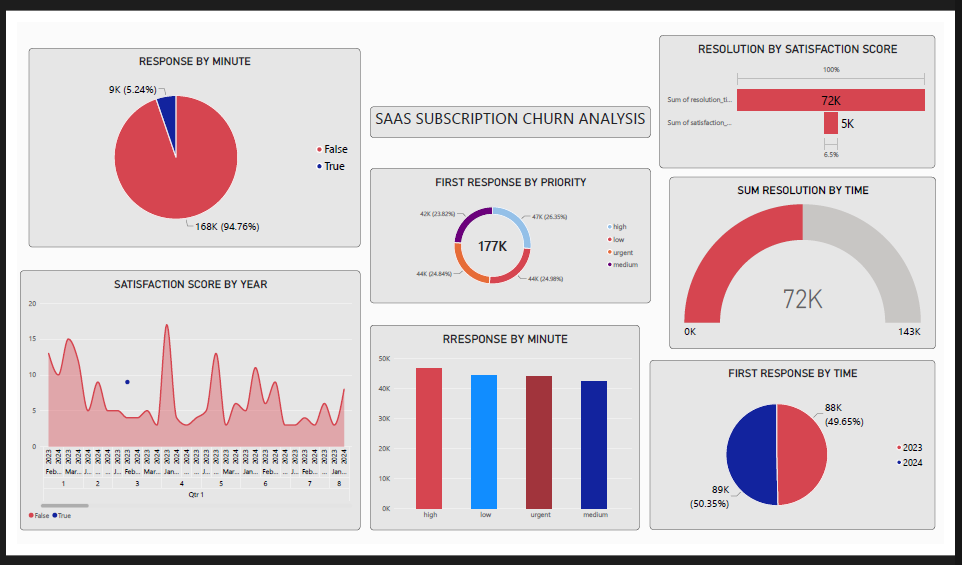

The page's visual inventory and layout, read from the dashboard file:
{"tool":"powerbi","page":{"name":"Page 1","canvas":[1920,1080],"ordinal":0},"visuals":[{"type":"donutChart","title":"FIRST RESPONSE BY PRIORITY","fields":{"Category":["cleaned_saas.priority"],"Y":["Sum(cleaned_saas.first_response_time_minutes)"]},"box":[730.7,302.4,582,279.7],"z":0},{"type":"lineClusteredColumnComboChart","title":"RRESPONSE BY MINUTE","fields":{"Category":["cleaned_saas.priority"],"Y":["Sum(cleaned_saas.first_response_time_minutes)"]},"box":[730.7,627.4,559.4,425.8],"z":1000},{"type":"stackedAreaChart","title":"SATISFACTION SCORE BY YEAR","fields":{"Category":["cleaned_saas.submitted_at.Variation.Date Hierarchy.Quarter","cleaned_saas.submitted_at.Variation.Date Hierarchy.Day","cleaned_saas.submitted_at.Variation.Date Hierarchy.Month","cleaned_saas.submitted_at.Variation.Date Hierarchy.Year"],"Series":["cleaned_saas.escalation_flag"],"Y":["Sum(cleaned_saas.satisfaction_score)"]},"box":[5,514,705.5,539.2],"z":2000},{"type":"gauge","title":"SUM RESOLUTION BY TIME","fields":{"Y":["Sum(cleaned_saas.resolution_time_hours)"]},"box":[1352.2,319.7,551.8,357.8],"z":3000},{"type":"pieChart","title":"FIRST RESPONSE BY TIME","fields":{"Category":["cleaned_saas.submitted_at.Variation.Date Hierarchy.Year","cleaned_saas.submitted_at.Variation.Date Hierarchy.Quarter","cleaned_saas.submitted_at.Variation.Date Hierarchy.Month","cleaned_saas.submitted_at.Variation.Date Hierarchy.Day"],"Y":["Sum(cleaned_saas.first_response_time_minutes)"]},"box":[1311.1,699.8,591.8,352.1],"z":4000},{"type":"pieChart","title":"RESPONSE BY MINUTE","fields":{"Category":["cleaned_saas.escalation_flag","cleaned_saas.submitted_at.Variation.Date Hierarchy.Year","cleaned_saas.submitted_at.Variation.Date Hierarchy.Quarter","cleaned_saas.submitted_at.Variation.Date Hierarchy.Month","cleaned_saas.submitted_at.Variation.Date Hierarchy.Day"],"Y":["Sum(cleaned_saas.first_response_time_minutes)"]},"box":[22.7,52.9,687.9,413.2],"z":5000},{"type":"funnel","title":"RESOLUTION BY SATISFACTION SCORE","fields":{"Y":["Sum(cleaned_saas.resolution_time_hours)","Sum(cleaned_saas.satisfaction_score)"]},"box":[1330.6,25.9,572.4,276.5],"z":6000},{"type":"textbox","box":[730.7,173.9,582,65.5],"z":7000}]}

Visuals, with their boxes in screenshot pixels (x1, y1, x2, y2):
"FIRST RESPONSE BY PRIORITY" donutChart: crop(330, 156, 640, 304)
"RRESPONSE BY MINUTE" lineClusteredColumnComboChart: crop(330, 328, 628, 554)
"SATISFACTION SCORE BY YEAR" stackedAreaChart: crop(0, 268, 320, 554)
"SUM RESOLUTION BY TIME" gauge: crop(661, 165, 954, 355)
"FIRST RESPONSE BY TIME" pieChart: crop(639, 367, 953, 554)
"RESPONSE BY MINUTE" pieChart: crop(0, 23, 320, 243)
"RESOLUTION BY SATISFACTION SCORE" funnel: crop(649, 9, 953, 156)
textbox: crop(330, 87, 640, 122)
